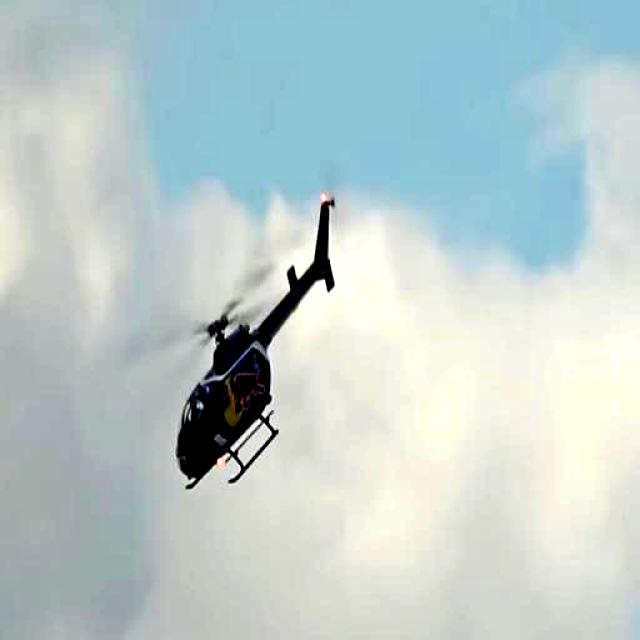drone: (149, 158, 341, 521)
